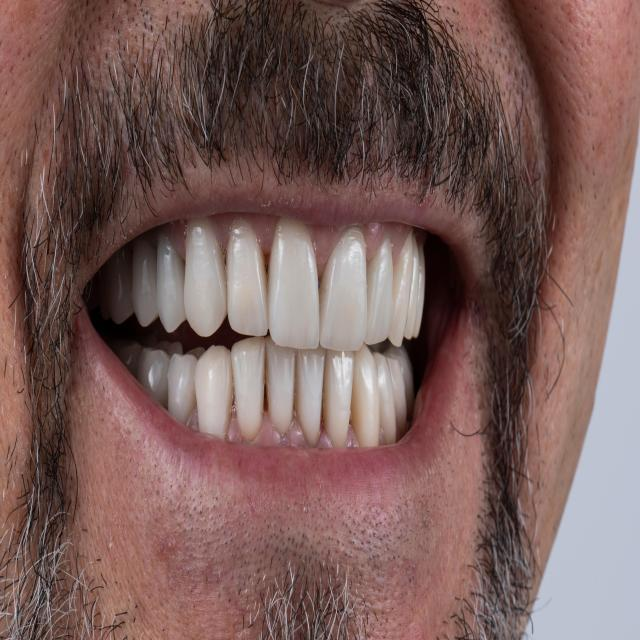tooth: (267, 217, 320, 349), (319, 229, 367, 351), (184, 216, 228, 337), (226, 220, 268, 336), (194, 345, 234, 439), (231, 335, 265, 442), (387, 229, 414, 347), (295, 342, 325, 448), (350, 342, 380, 447), (137, 341, 183, 409), (265, 335, 296, 435), (364, 239, 393, 345), (323, 349, 354, 447), (168, 347, 206, 426), (157, 234, 187, 333), (382, 344, 415, 420), (132, 241, 159, 327), (373, 352, 396, 445), (107, 246, 134, 324), (385, 357, 407, 433), (404, 234, 419, 340), (413, 245, 425, 337)
